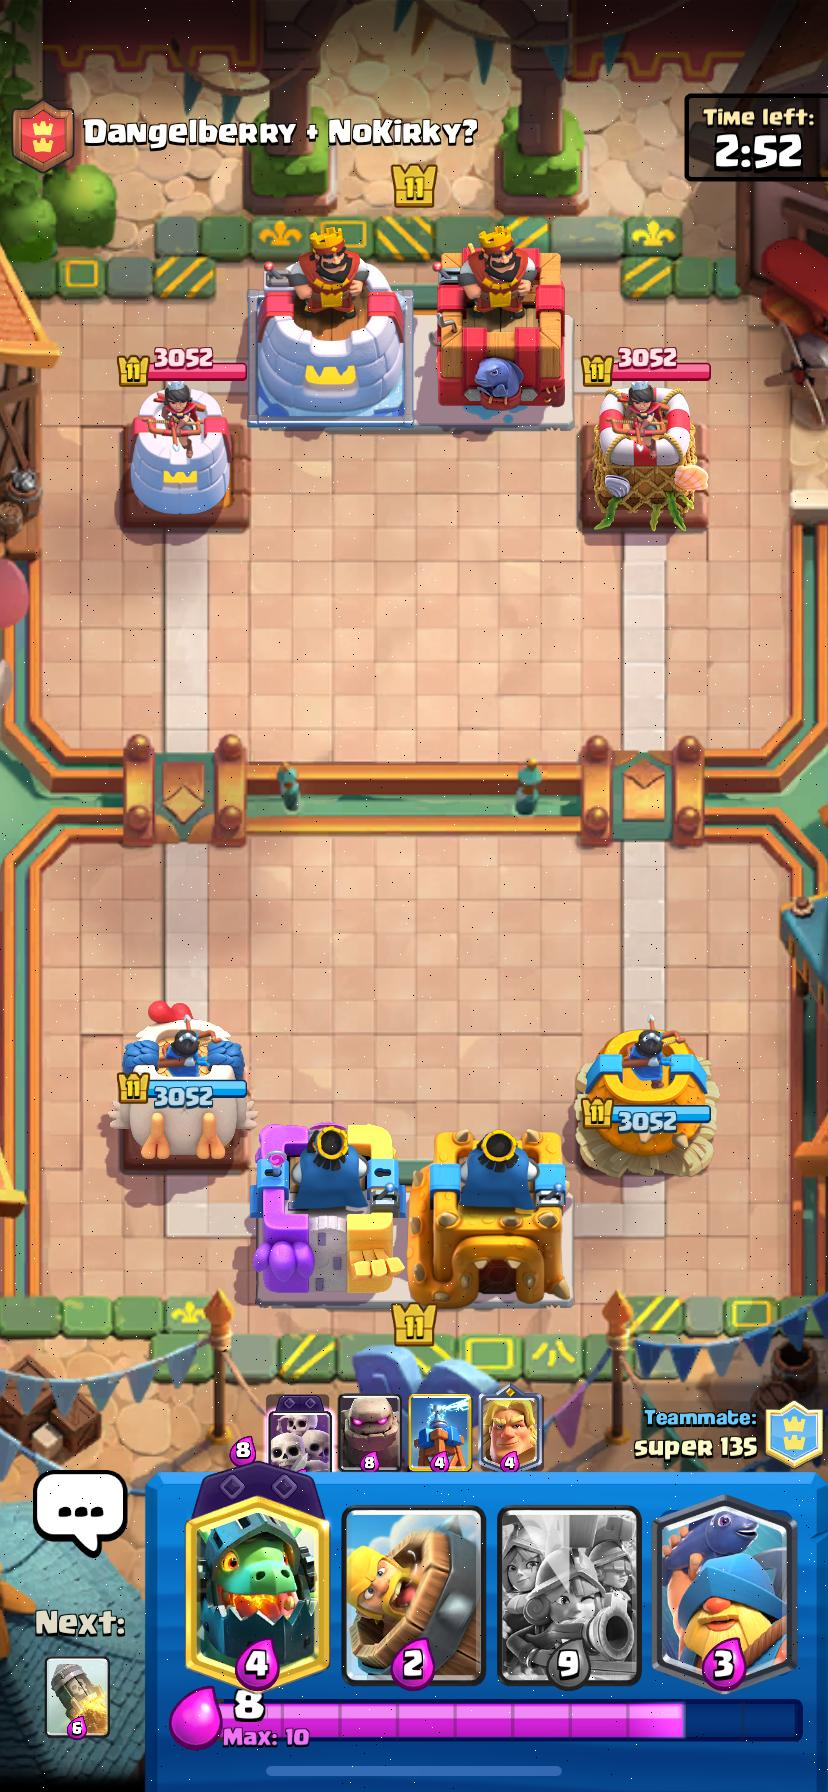EKingTower: (250, 226, 407, 426), (433, 225, 565, 421)
EnemyPrincessTower: (122, 381, 247, 528), (583, 383, 707, 530)
OwnKingTower: (408, 1128, 572, 1307), (252, 1123, 403, 1304)
OwnPrincessTower: (109, 1003, 255, 1160), (576, 1018, 716, 1175)
